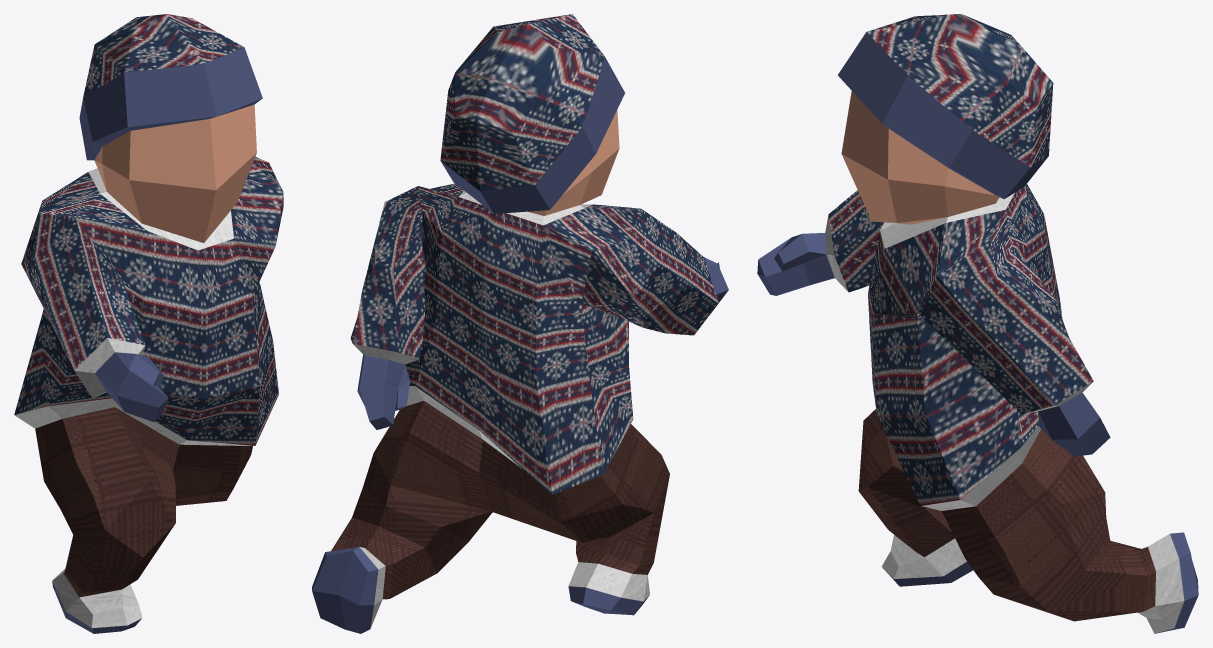
The model's file is AutumnBaby.008.glb.
3 views of the same model, side by side, from view 1: azimuth 30°, elevation 25°; view 2: azimuth 150°, elevation 25°; view 3: azimuth 270°, elevation 25° (orthographic). The views are drawn at different scales.
Visible parts, largest first — view 1: AutumnBaby.008; view 2: AutumnBaby.008; view 3: AutumnBaby.008.
Part boxes in pixels (x1,y1,x2,y2): AutumnBaby.008: (14,14,283,633); AutumnBaby.008: (312,14,728,633); AutumnBaby.008: (757,14,1198,633).
Bounding box in the file's own units: 0.2707 × 0.5484 × 0.3647.
Materials: 1 (1 with a texture image).
